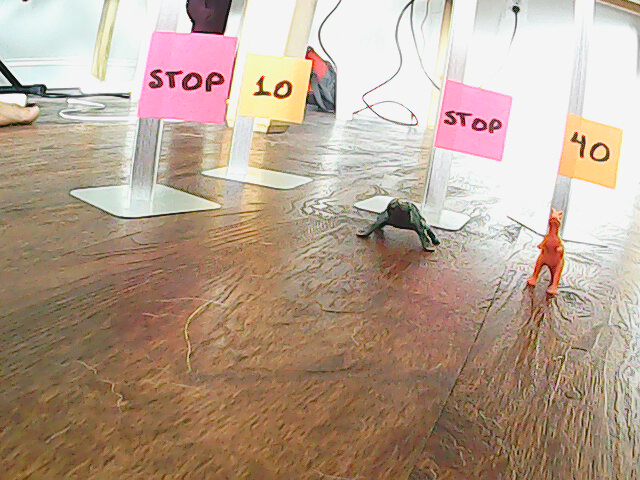10: (245, 60, 298, 118)
40: (567, 127, 615, 177)
dinosaur: (523, 205, 575, 299)
stop: (148, 41, 227, 115), (443, 91, 507, 146)
turtle: (353, 194, 445, 257)
